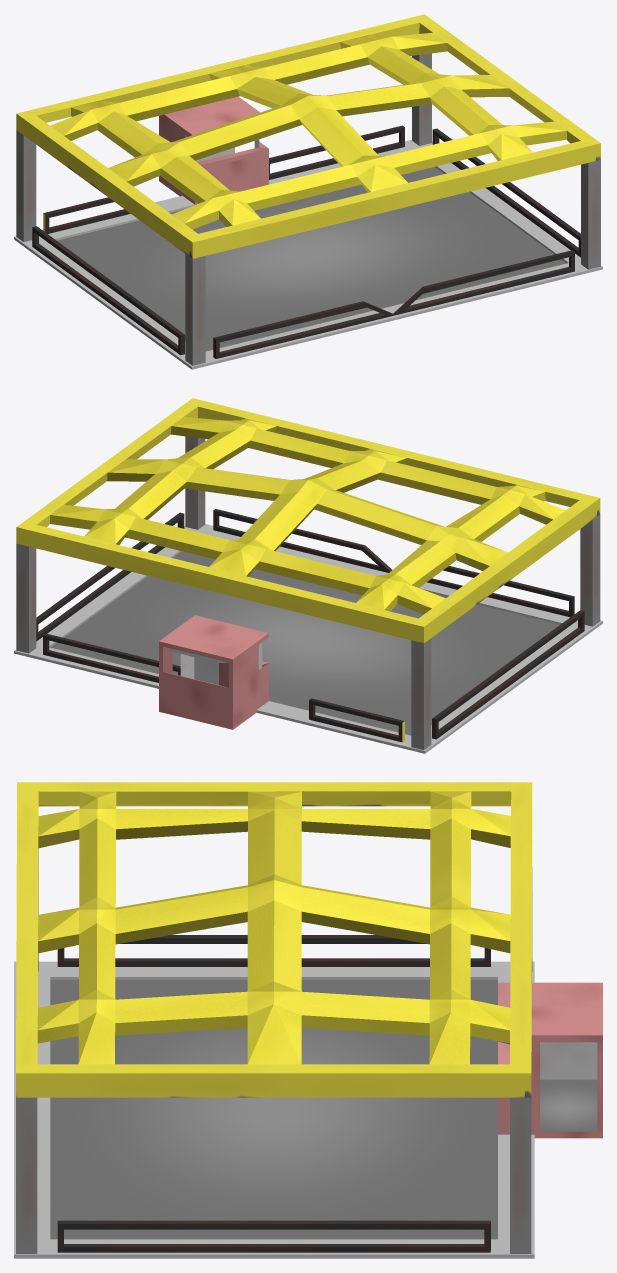
Rendered from bumpercarride.FBX.
The picture shows the model from 3 angles, top to bottom: view 1: azimuth 30°, elevation 25°; view 2: azimuth 150°, elevation 25°; view 3: azimuth 270°, elevation 25°; orthographic projection. The views are drawn at different scales.
Visible parts, largest first — view 1: Box001; view 2: Box001; view 3: Box001.
Part boxes in pixels (x1,y1,x2,y2): Box001: [14, 14, 602, 369]; Box001: [14, 398, 602, 753]; Box001: [14, 782, 602, 1258].
Size of the model in its own units: 200 by 73.79 by 170.
1 material, 1 textured.
